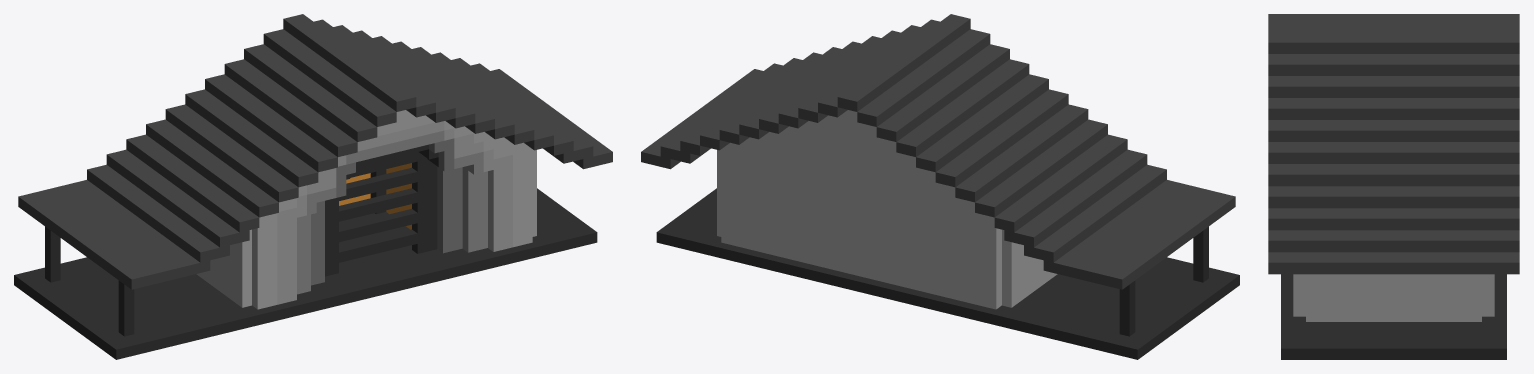
Rendered from Angar.obj.
3 views of the same model, side by side, from view 1: azimuth 30°, elevation 25°; view 2: azimuth 150°, elevation 25°; view 3: azimuth 270°, elevation 25° (orthographic). The views are drawn at different scales.
Size of the model in its own units: 5 by 1.9 by 2.
Materials: 1 (1 with a texture image).
